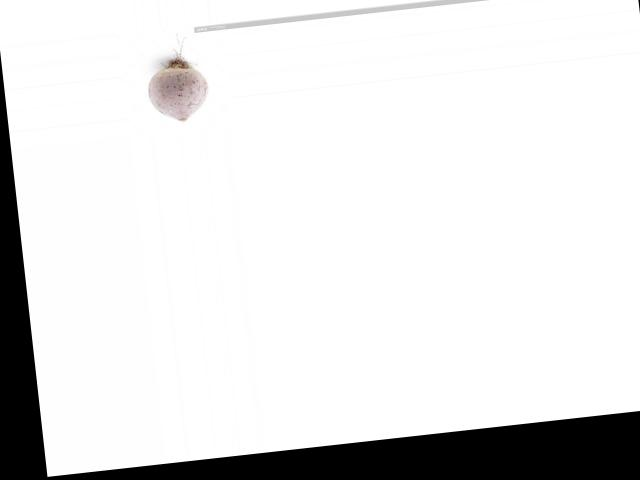beet: (142, 29, 212, 125)
